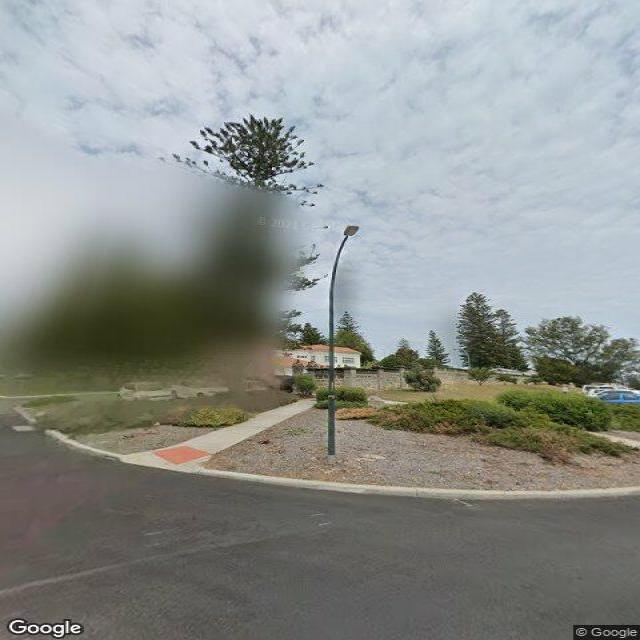steel-pole: (326, 282, 336, 464)
streetlight: (330, 225, 360, 288)
